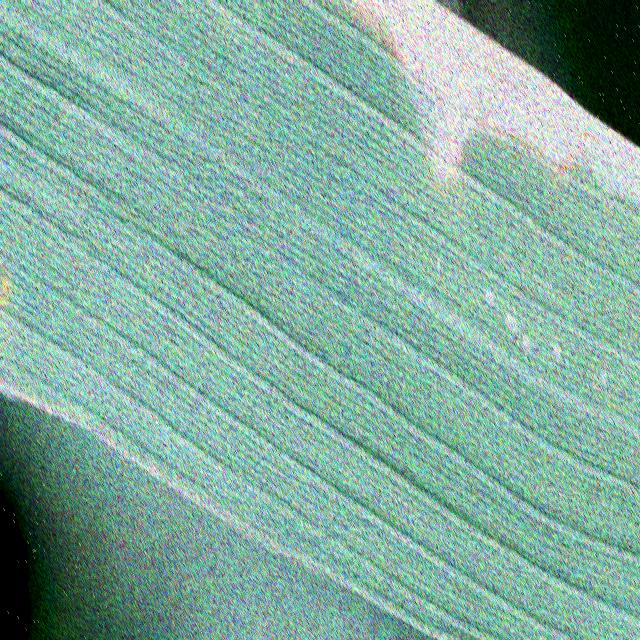BLB: (345, 0, 639, 183)
